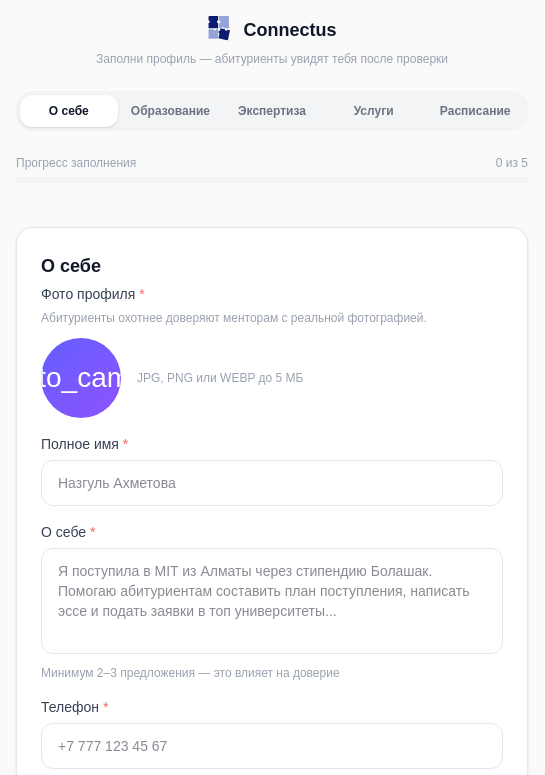
Scenario: MentorOnboarding › auto-saves the About tab on blur and flashes a saved confirmation
In the field with placeholder "Назгуль Ахметова": {"x": 272, "y": 483} 41,460 -> 503,506, type "Aigerim"
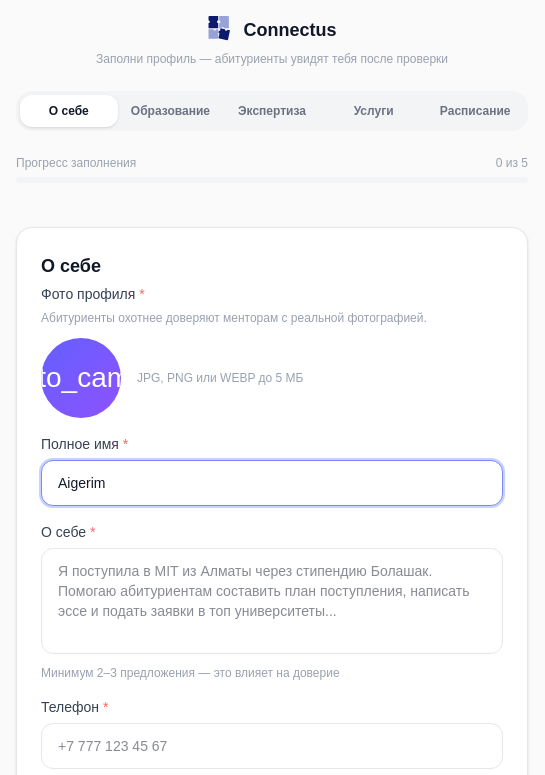
Press Tab
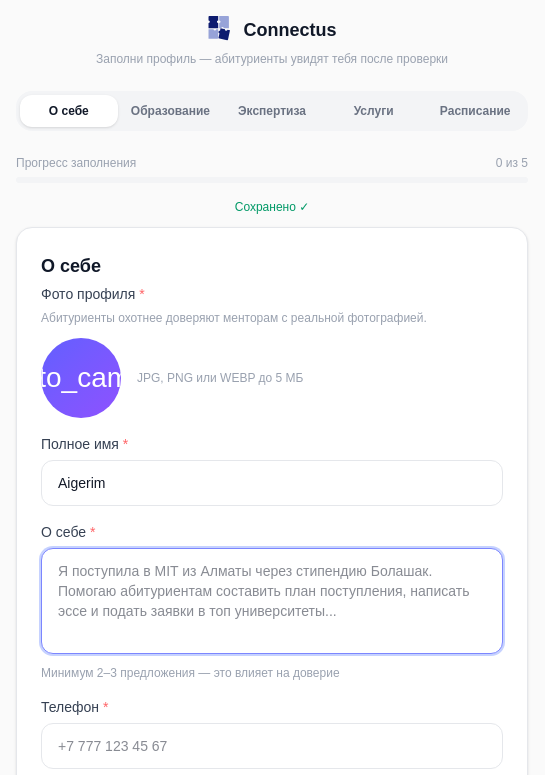
Expected: the text "Сохранено ✓" is shown, 235,200 -> 309,214
